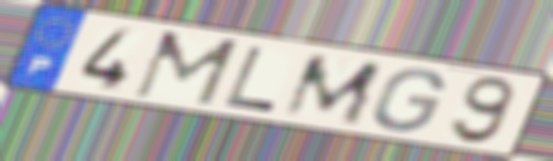4: (76, 26, 133, 93)
9: (448, 74, 521, 147)
G: (369, 66, 449, 135)
L: (220, 44, 279, 115)
M: (128, 29, 244, 109), (277, 53, 387, 128)
